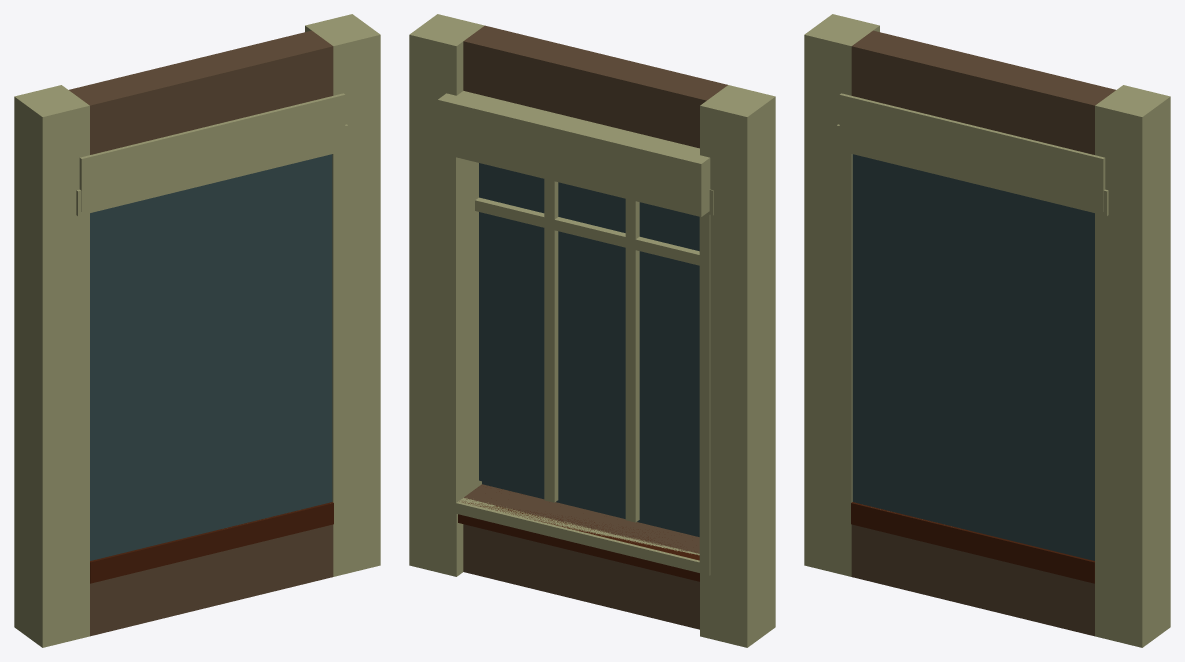
File: gn_shopfront_bay_2m.glb
3 renders of one model, left to right at view 1: azimuth 30°, elevation 25°; view 2: azimuth 150°, elevation 25°; view 3: azimuth 330°, elevation 25°, orthographic.
Parts seen in each view (by area): view 1: GnShopfrontBay; view 2: GnShopfrontBay; view 3: GnShopfrontBay.
Boxes of the visible parts, <box> form: GnShopfrontBay: <box>14,14,380,647</box>; GnShopfrontBay: <box>409,14,775,647</box>; GnShopfrontBay: <box>804,14,1170,647</box>.
Bounding box in the file's own units: 2 × 3 × 0.4.
